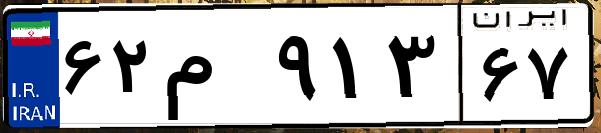1: (330, 28, 385, 110)
2: (110, 28, 158, 98)
3: (385, 28, 445, 110)
6: (57, 26, 110, 100), (475, 38, 525, 113)
7: (525, 38, 570, 115)
9: (270, 28, 330, 110)
م: (158, 20, 270, 120)
